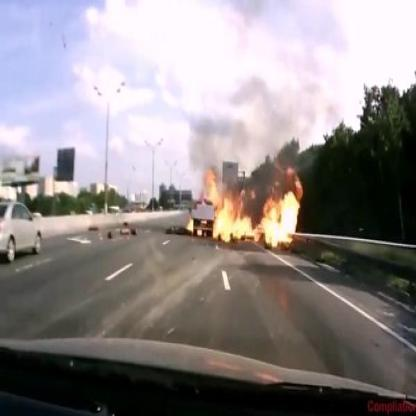fire: (207, 165, 304, 252), (184, 214, 196, 237)
